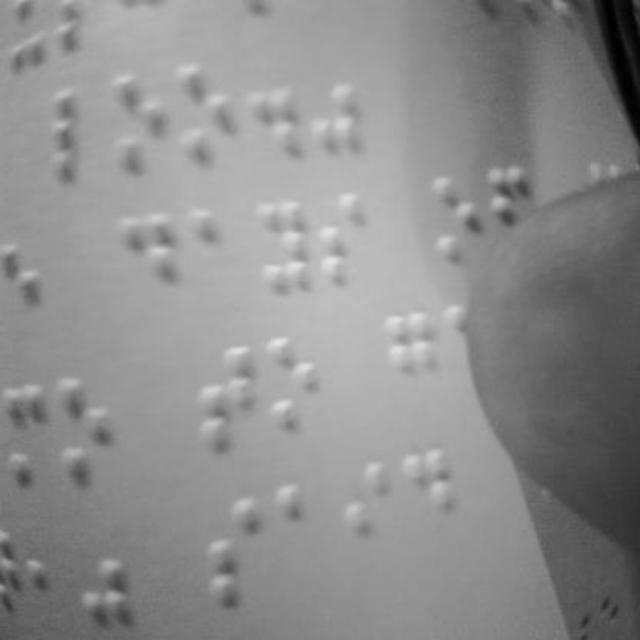braiile: (56, 368, 120, 488), (194, 342, 258, 456), (204, 497, 266, 613), (400, 440, 458, 560), (380, 304, 440, 420), (0, 232, 56, 356), (340, 450, 396, 574), (116, 203, 176, 315), (253, 185, 311, 298), (268, 323, 328, 432), (174, 61, 234, 167), (272, 476, 326, 592), (48, 82, 108, 185), (314, 180, 368, 292), (107, 74, 165, 176), (189, 200, 241, 308), (427, 171, 483, 271)
